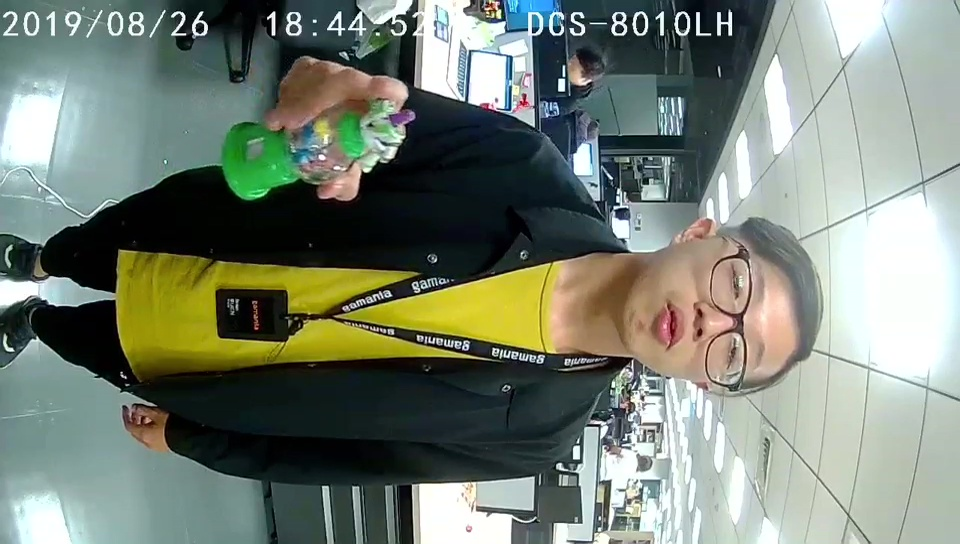buzz: (222, 99, 414, 204)
